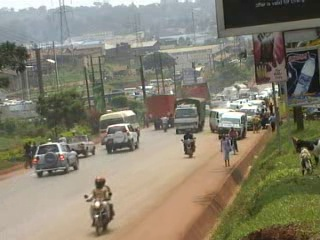Car: (26, 140, 82, 177), (100, 119, 141, 156)
Motorcycle: (80, 176, 119, 236), (178, 128, 200, 159), (160, 112, 171, 132)
